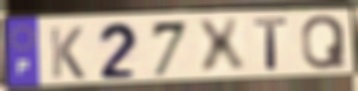2: (96, 20, 142, 84)
7: (146, 21, 192, 78)
K: (47, 25, 87, 81)
Q: (300, 14, 348, 72)
T: (252, 16, 291, 73)
X: (193, 16, 249, 78)
